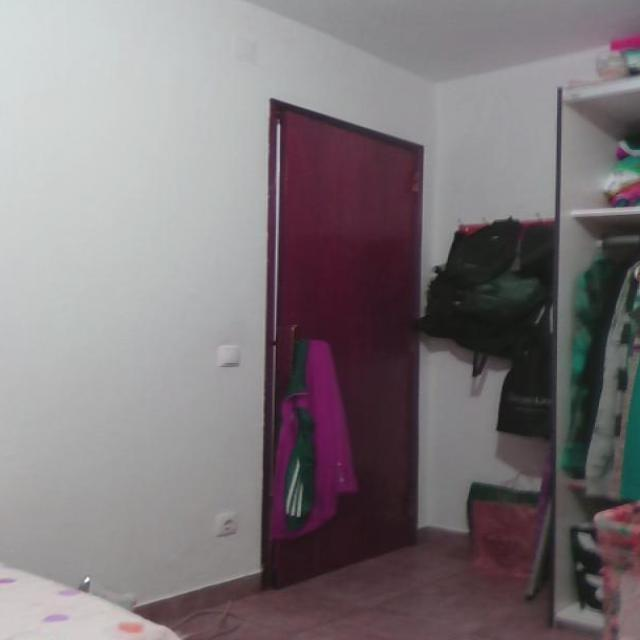door: (261, 97, 423, 589)
